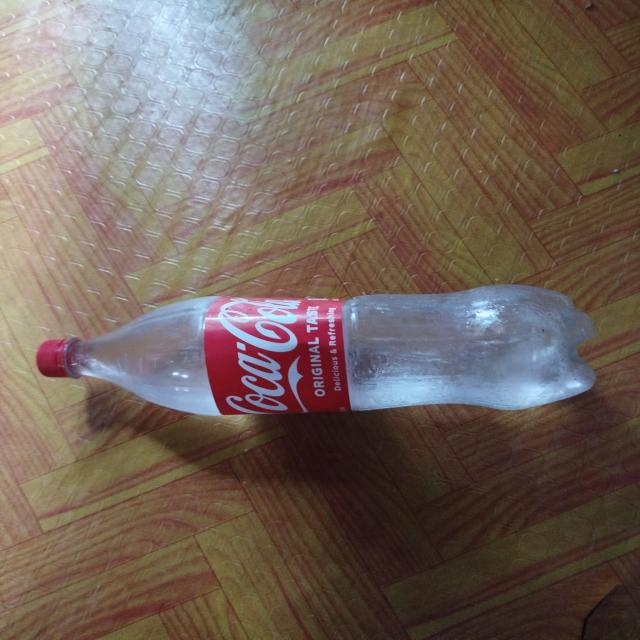plastic: (28, 284, 620, 431)
